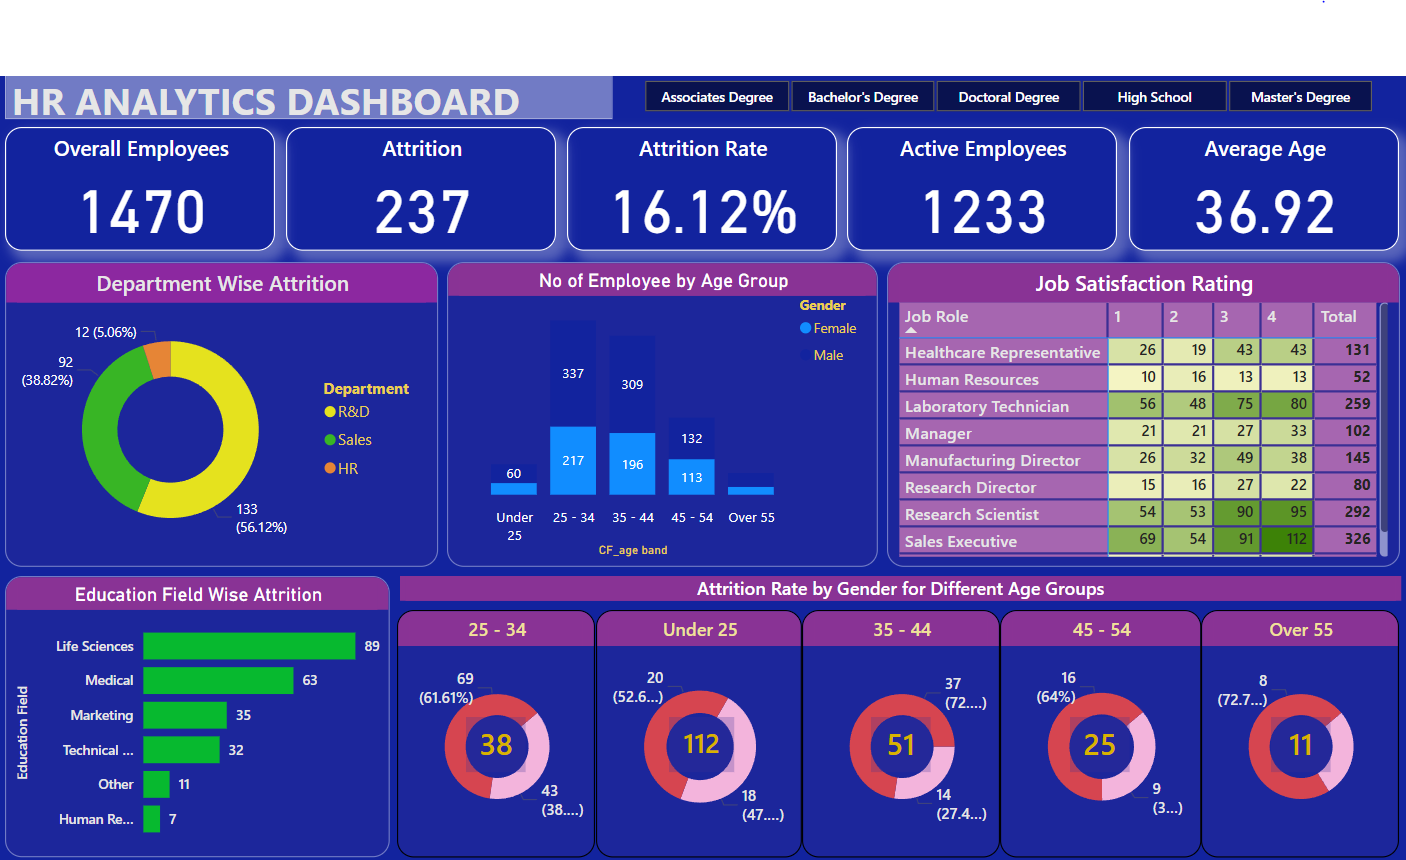

The page's visual inventory and layout, read from the dashboard file:
{"tool":"powerbi","page":{"name":"Dashboard","canvas":[1280,720],"ordinal":0},"visuals":[{"type":"card","title":"Overall Employees","fields":{"Values":["Sum(HR data.Employee Count)"]},"box":[20.2,56.1,240.3,109.6],"z":0},{"type":"card","title":"Attrition","fields":{"Values":["Sum(HR data.Attrition Count)"]},"box":[270.1,56.1,240.3,109.6],"z":1000},{"type":"card","title":"Attrition Rate","fields":{"Values":["HR data.Attrition Rates"]},"box":[520,56.1,240.3,109.6],"z":2000},{"type":"card","title":"Active Employees","fields":{"Values":["HR data.Active Employees"]},"box":[769.1,56.1,240.3,109.6],"z":3000},{"type":"card","title":"Average Age","fields":{"Values":["Avg(HR data.Age)"]},"box":[1019.9,56.1,240.3,109.6],"z":4000},{"type":"donutChart","title":"Department Wise Attrition","fields":{"Category":["HR data.Department"],"Y":["Sum(HR data.Attrition Count)"]},"box":[20.2,176.3,385,271],"z":5000},{"type":"columnChart","title":"No of Employee by Age Group","fields":{"Category":["HR data.CF_age band"],"Y":["Sum(HR data.Employee Count)"],"Series":["HR data.Gender"]},"box":[413.1,176.3,383.2,271],"z":6000},{"type":"pivotTable","title":"Job Satisfaction Rating","fields":{"Rows":["HR data.Job Role"],"Columns":["HR data.Job Satisfaction"],"Values":["Sum(HR data.Employee Count)"]},"box":[804.2,176.3,456,271],"z":7000},{"type":"barChart","title":"Education Field Wise Attrition","fields":{"Category":["HR data.Education Field"],"Y":["Sum(HR data.Attrition Count)"]},"box":[20.2,455.2,342,249.9],"z":8000},{"type":"donutChart","title":"Under 25","fields":{"Category":["HR data.Gender"],"Y":["Sum(HR data.Attrition Count)"],"Series":["HR data.CF_age band"]},"box":[545.5,485,183.3,220.1],"z":9000},{"type":"textbox","title":"Attrition Rate by Gender for Different Age Groups","box":[371.8,455.2,890.1,21.9],"z":10000},{"type":"donutChart","title":"25 - 34","fields":{"Category":["HR data.Gender"],"Y":["Sum(HR data.Attrition Count)"],"Series":["HR data.CF_age band"]},"box":[369.2,485,176.3,220.1],"z":11000},{"type":"donutChart","title":"35 - 44","fields":{"Category":["HR data.Gender"],"Y":["Sum(HR data.Attrition Count)"],"Series":["HR data.CF_age band"]},"box":[728.8,485,176.3,220.1],"z":12000},{"type":"donutChart","title":"45 - 54","fields":{"Category":["HR data.Gender"],"Y":["Sum(HR data.Attrition Count)"],"Series":["HR data.CF_age band"]},"box":[905,485,178.9,220.1],"z":13000},{"type":"donutChart","title":"Over 55","fields":{"Category":["HR data.Gender"],"Y":["Sum(HR data.Attrition Count)"],"Series":["HR data.CF_age band"]},"box":[1083.9,485,176.3,220.1],"z":14000},{"type":"card","fields":{"Values":["Sum(HR data.Attrition Count)"]},"box":[430.6,580.6,53.5,49.1],"z":15000},{"type":"card","fields":{"Values":["Sum(HR data.Attrition Count)"]},"box":[610.8,580.7,58.4,48.6],"z":16000},{"type":"card","fields":{"Values":["Sum(HR data.Attrition Count)"]},"box":[790.2,580.6,53.5,49.1],"z":17000},{"type":"card","fields":{"Values":["Sum(HR data.Attrition Count)"]},"box":[967.3,580.6,53.5,49.1],"z":18000},{"type":"card","fields":{"Values":["Sum(HR data.Attrition Count)"]},"box":[1145.3,580.6,53.5,49.1],"z":19000},{"type":"textbox","title":"HR ANALYTICS DASHBOARD","box":[20.2,7.9,540.2,41.2],"z":20000},{"type":"slicer","fields":{"Values":["HR data.Education"]},"box":[563.9,7.9,696.3,41.2],"z":21000}]}

Visuals, with their boxes on the page's 1280x720 design canvas (x1, y1, x2, y2). These are canvas units, not pixel positions in the 1406x860 screenshot, which may show the page scaled, cropped or inside an application window:
"Overall Employees" card: (x1=20, y1=56, x2=260, y2=166)
"Attrition" card: (x1=270, y1=56, x2=510, y2=166)
"Attrition Rate" card: (x1=520, y1=56, x2=760, y2=166)
"Active Employees" card: (x1=769, y1=56, x2=1009, y2=166)
"Average Age" card: (x1=1020, y1=56, x2=1260, y2=166)
"Department Wise Attrition" donutChart: (x1=20, y1=176, x2=405, y2=447)
"No of Employee by Age Group" columnChart: (x1=413, y1=176, x2=796, y2=447)
"Job Satisfaction Rating" pivotTable: (x1=804, y1=176, x2=1260, y2=447)
"Education Field Wise Attrition" barChart: (x1=20, y1=455, x2=362, y2=705)
"Under 25" donutChart: (x1=546, y1=485, x2=729, y2=705)
"Attrition Rate by Gender for Different Age Groups" textbox: (x1=372, y1=455, x2=1262, y2=477)
"25 - 34" donutChart: (x1=369, y1=485, x2=546, y2=705)
"35 - 44" donutChart: (x1=729, y1=485, x2=905, y2=705)
"45 - 54" donutChart: (x1=905, y1=485, x2=1084, y2=705)
"Over 55" donutChart: (x1=1084, y1=485, x2=1260, y2=705)
card - Sum(HR data.Attrition Count): (x1=431, y1=581, x2=484, y2=630)
card - Sum(HR data.Attrition Count): (x1=611, y1=581, x2=669, y2=629)
card - Sum(HR data.Attrition Count): (x1=790, y1=581, x2=844, y2=630)
card - Sum(HR data.Attrition Count): (x1=967, y1=581, x2=1021, y2=630)
card - Sum(HR data.Attrition Count): (x1=1145, y1=581, x2=1199, y2=630)
"HR ANALYTICS DASHBOARD" textbox: (x1=20, y1=8, x2=560, y2=49)
slicer - HR data.Education: (x1=564, y1=8, x2=1260, y2=49)
